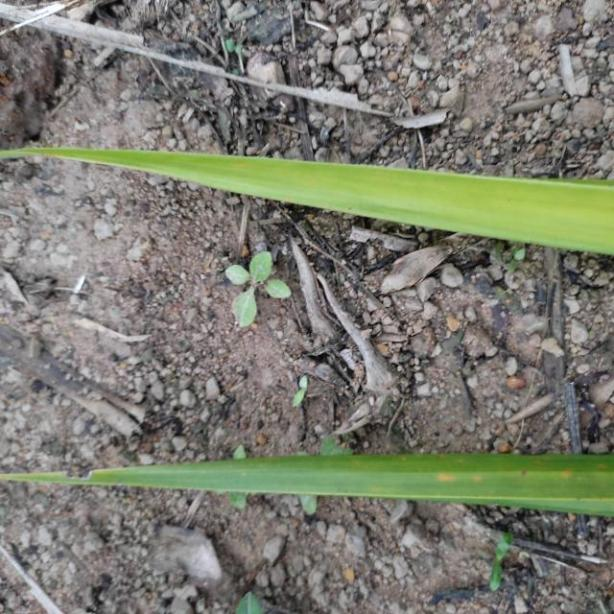nitrogen: (0, 133, 614, 259), (0, 446, 614, 520)
